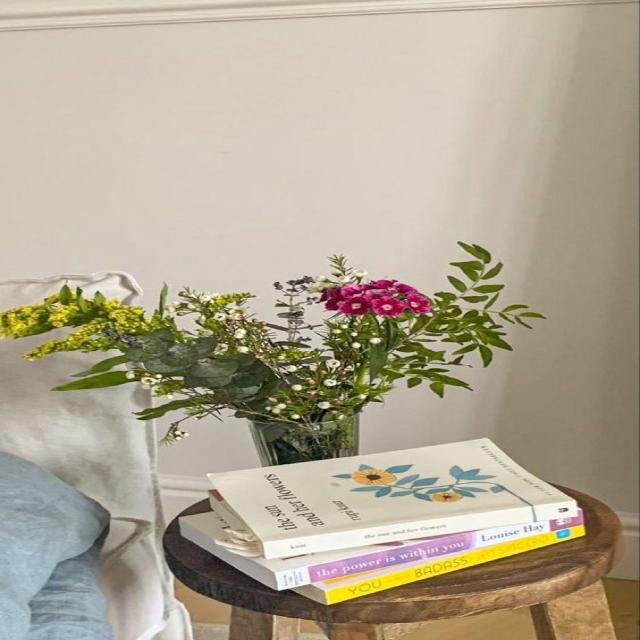book: (275, 516, 583, 590), (325, 524, 583, 605), (263, 501, 577, 559)
flowers: (0, 243, 544, 464)
